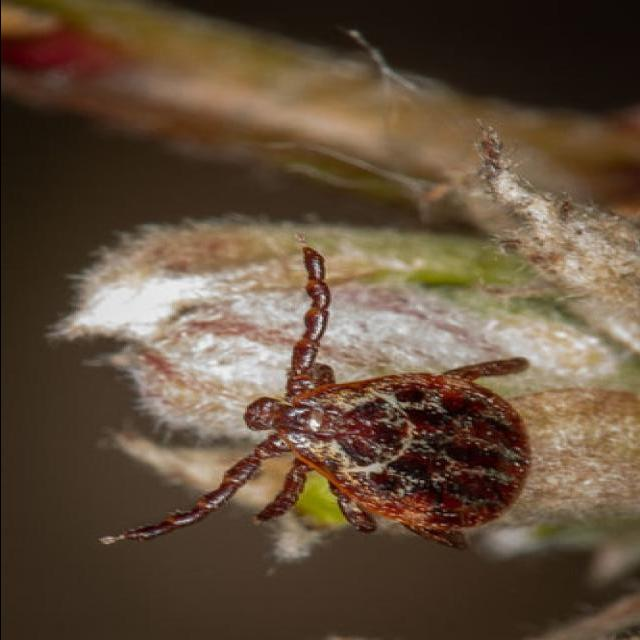Dermacentor Reticulatus-M: (94, 247, 530, 553)
